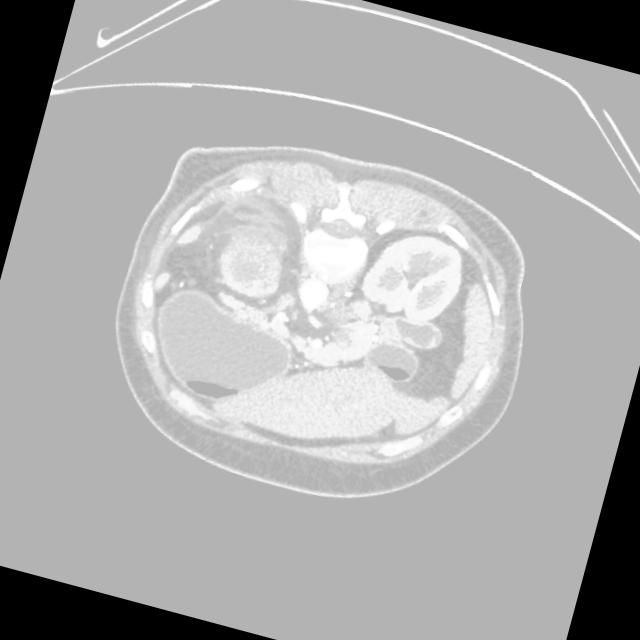TUMOR: (75, 212, 537, 492)
